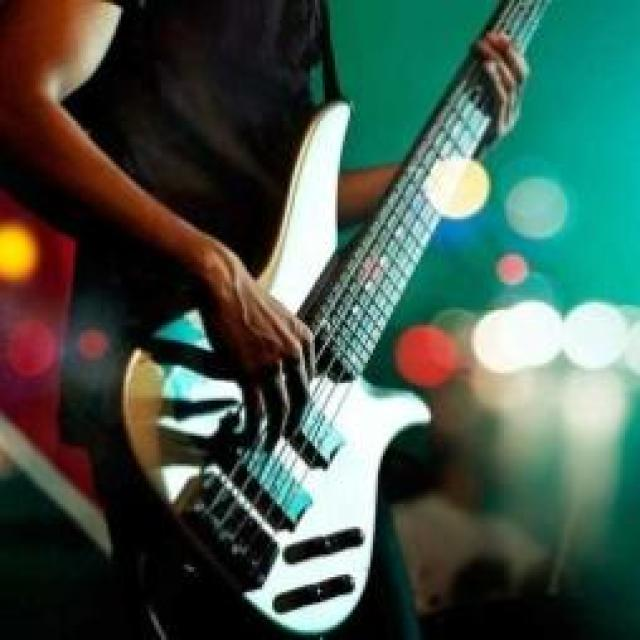bass: (118, 60, 489, 635)
